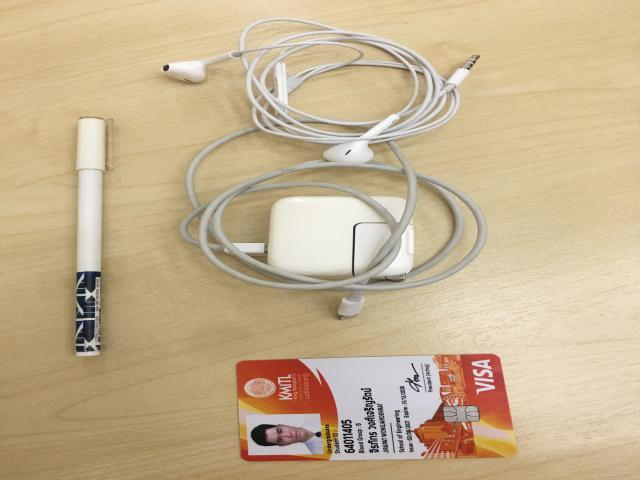Pen: (74, 119, 110, 359)
wire: (184, 161, 470, 309), (162, 18, 463, 143)
